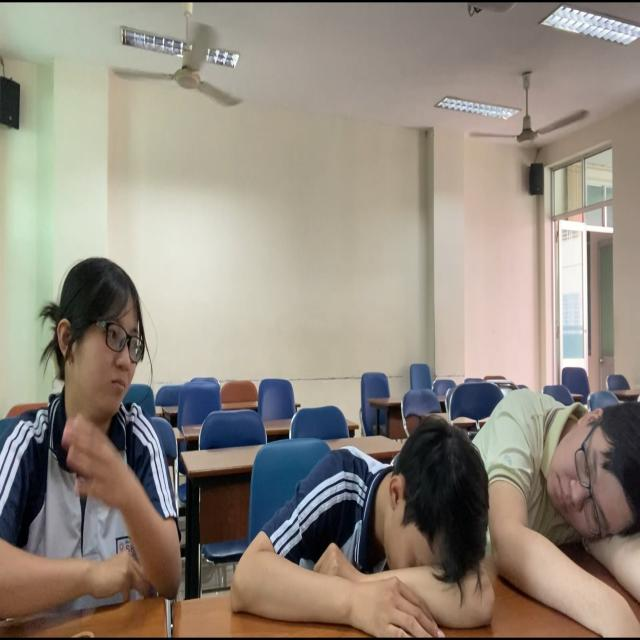sleep: (225, 412, 496, 638), (472, 369, 640, 621)
